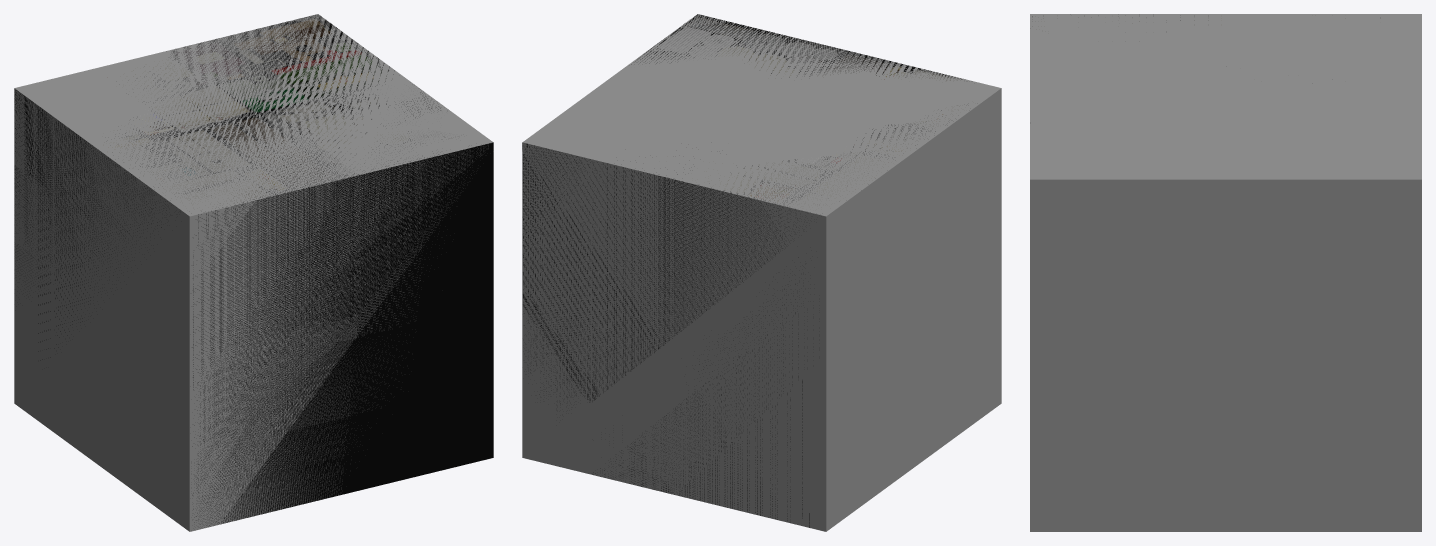
The model's file is plate_stack_02.FBX.
3 views of the same model, side by side, from view 1: azimuth 30°, elevation 25°; view 2: azimuth 150°, elevation 25°; view 3: azimuth 270°, elevation 25° (orthographic). The views are drawn at different scales.
Parts seen in each view (by area): view 1: bounds, colbox-1; view 2: bounds, colbox-1; view 3: bounds.
Boxes of the visible parts, x1=… form: bounds: x1=14, y1=14, x2=492, y2=531; colbox-1: x1=14, y1=14, x2=493, y2=527; bounds: x1=522, y1=14, x2=1001, y2=531; colbox-1: x1=522, y1=14, x2=965, y2=527; bounds: x1=1030, y1=14, x2=1421, y2=531.
Size of the model in its own units: 23.58 by 23.39 by 23.57.
